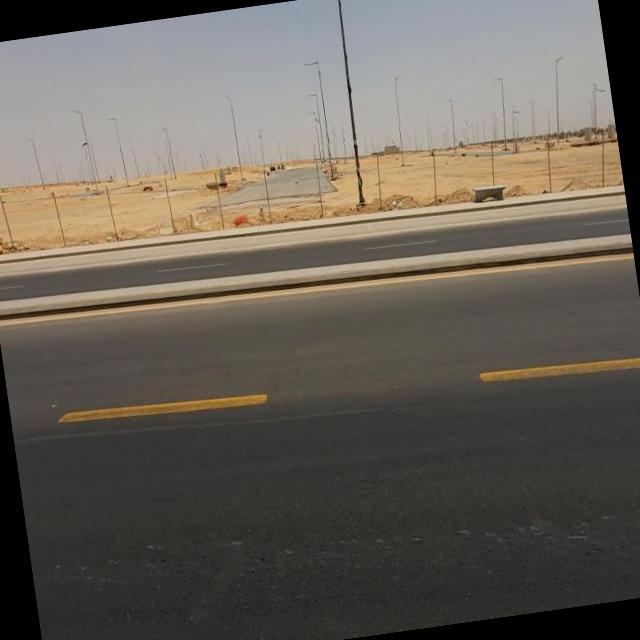debris: (208, 180, 274, 256), (378, 172, 424, 225)
